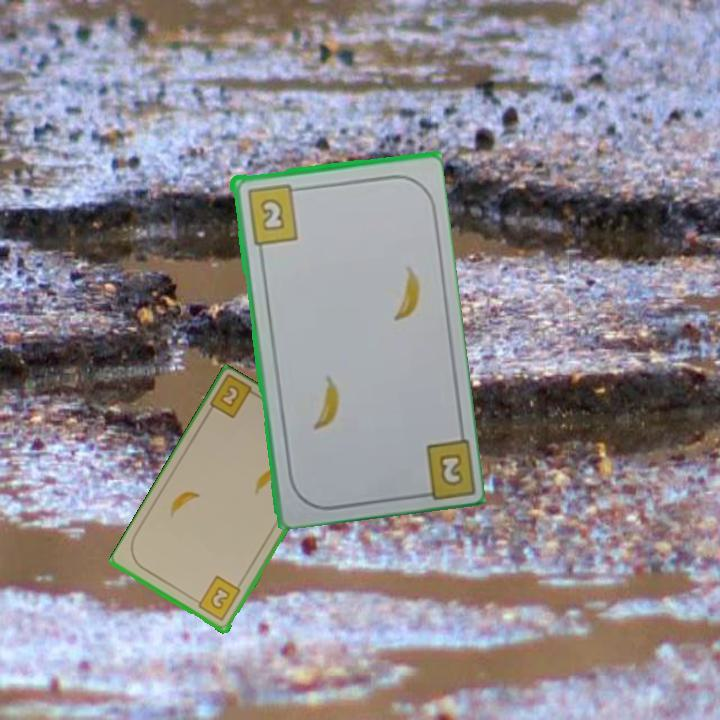2b: (243, 181, 304, 247), (191, 573, 244, 624), (435, 449, 466, 489), (216, 381, 243, 411)
